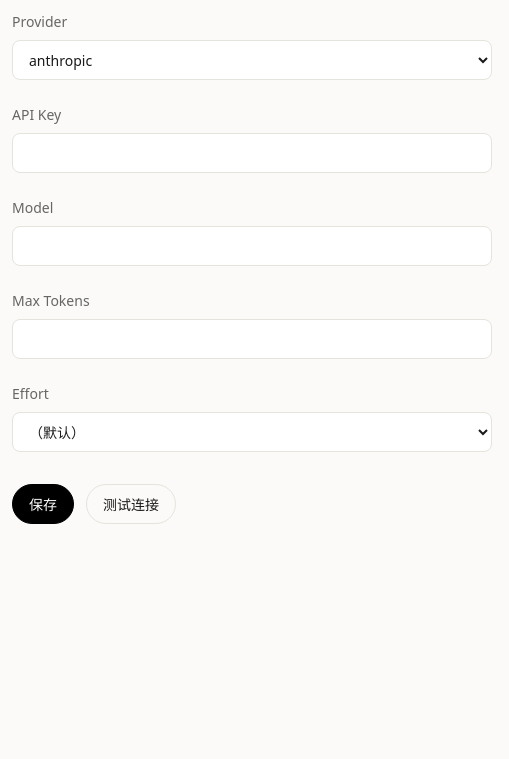
Test: ProviderForm 保存触发 › set_provider_key 失败时显示字段级中文错误提示
Type "sk-bad" into the password field labelled "API Key" at (252, 153), box [12,133,492,173]
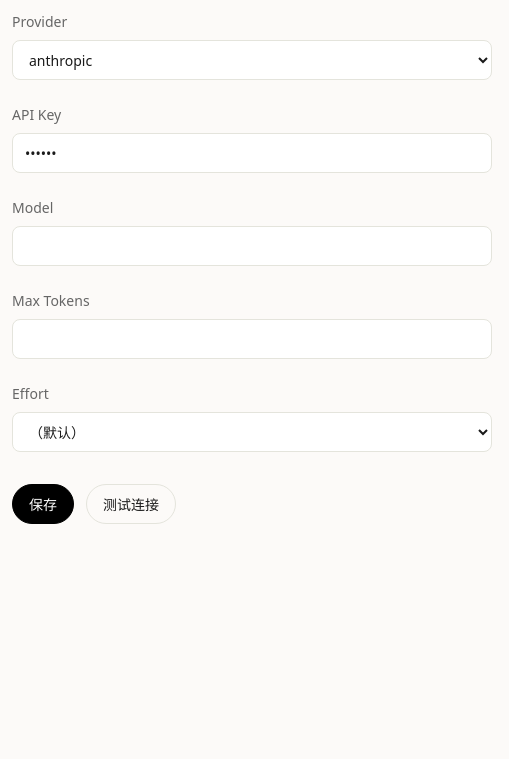
Click the button "保存" at (43, 504), box [12,484,74,524]
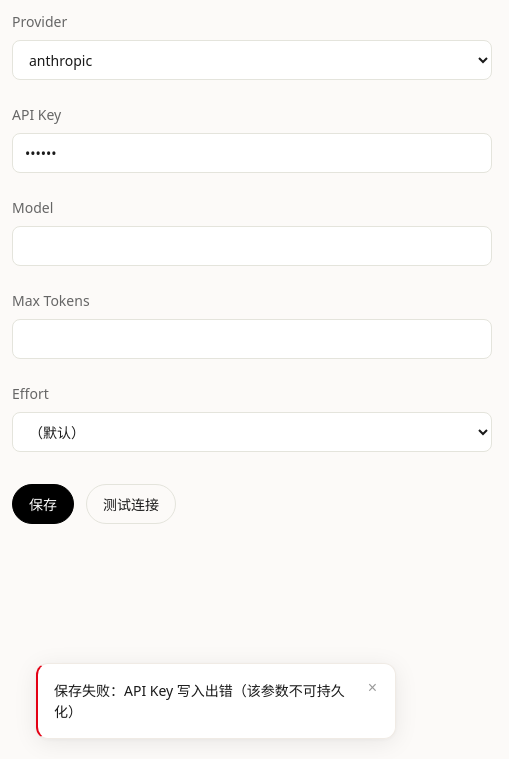
Now the text "保存失败：API Key 写入出错（该参数不可持久化）" is shown, box [54,680,358,722]
